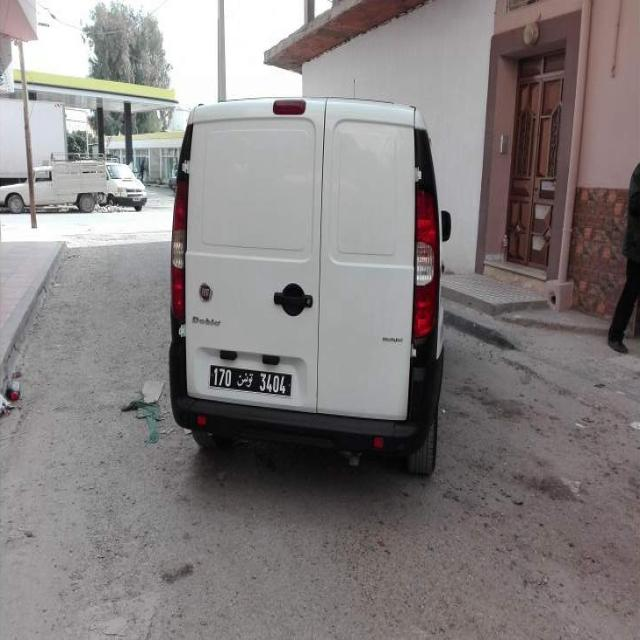licence plate: (210, 365, 292, 395)
